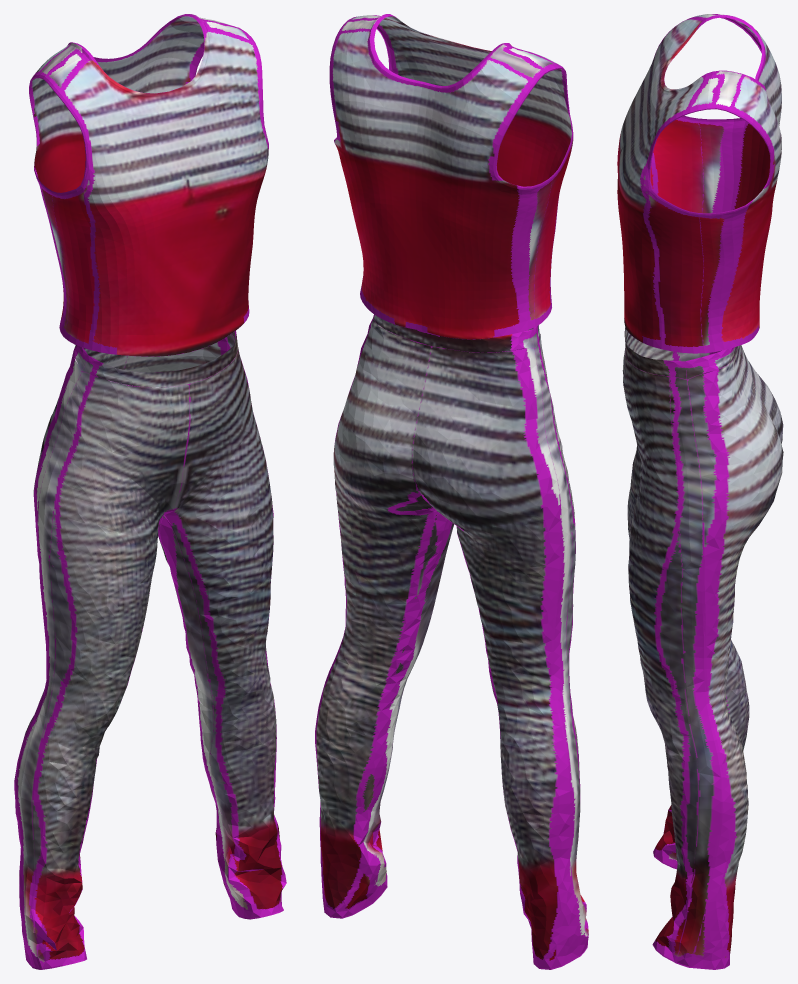
3 renders of one model, left to right at view 1: azimuth 30°, elevation 25°; view 2: azimuth 150°, elevation 25°; view 3: azimuth 270°, elevation 25°, orthographic. The views are drawn at different scales.
Bounding box in the file's own units: 0.2974 × 1.01 × 0.1733.
Materials: 1 (1 with a texture image).
